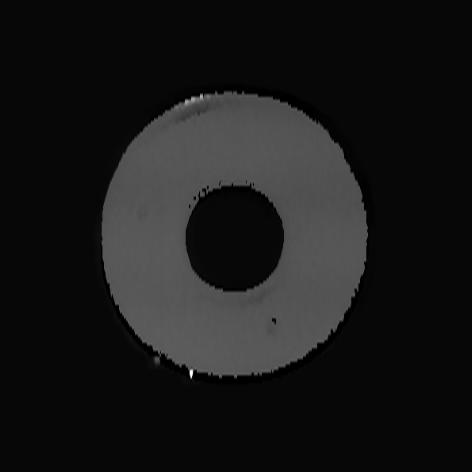defect: (272, 314, 277, 327)
